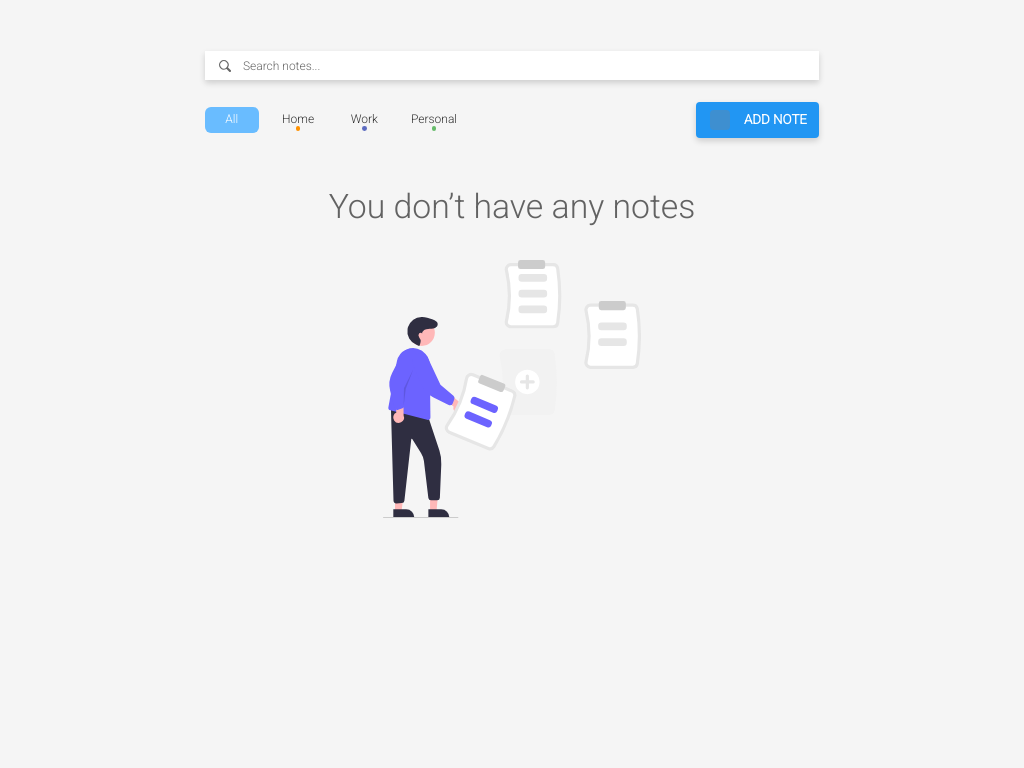
Note app UI › Should delete note
Click the button with test id "btn-add" at (758, 120), box [696,102,820,138]
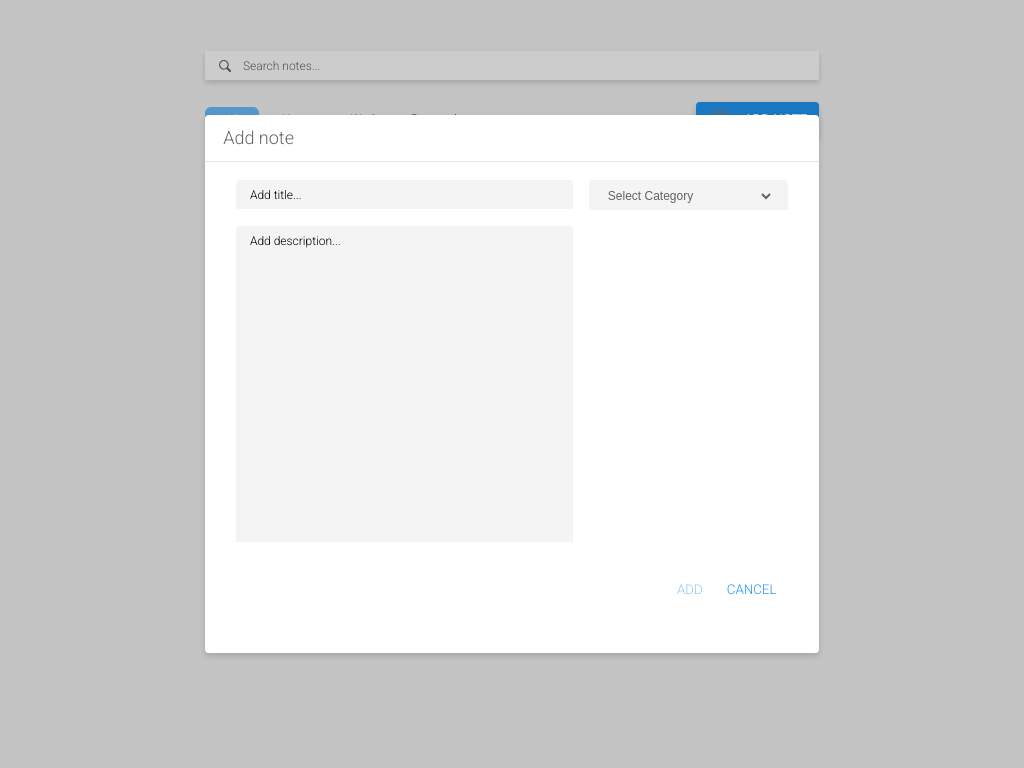
Type "Pet shop" into the field with test id "add-title" at (405, 195), box [250,188,559,202]
Type "Buscar o cachorro 15:00hrs" into the text box with test id "add-description" at (405, 385), box [250,234,559,535]
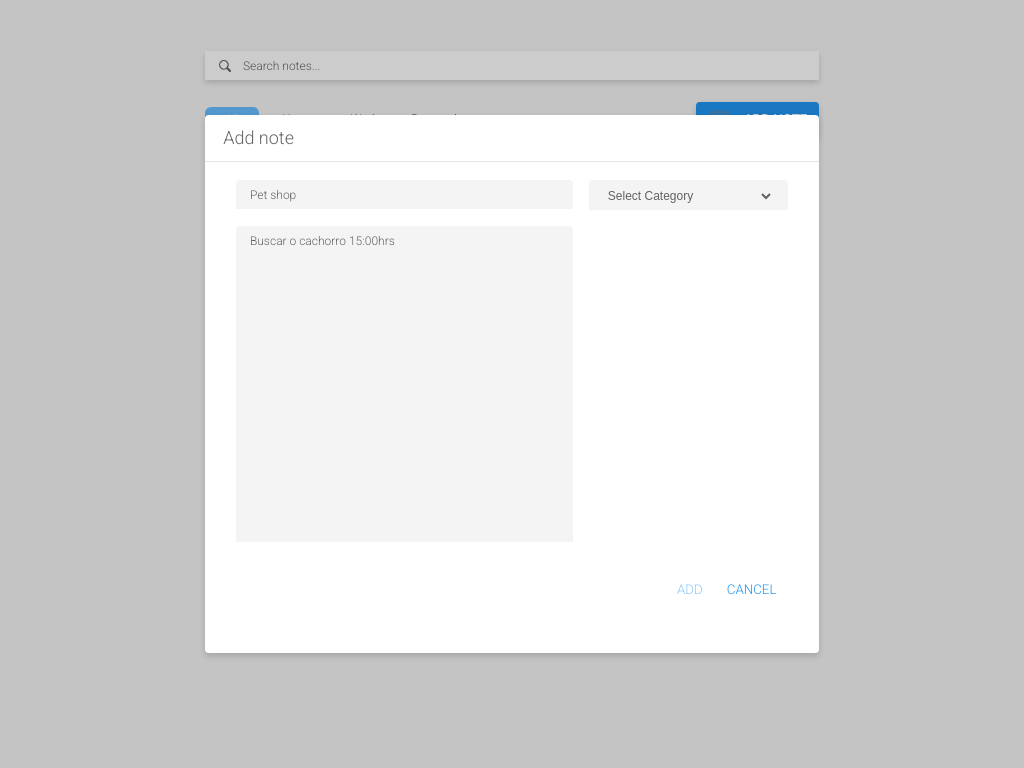
Select "Home" in the dropdown with test id "select-category" at (689, 196), box [604,188,774,204]
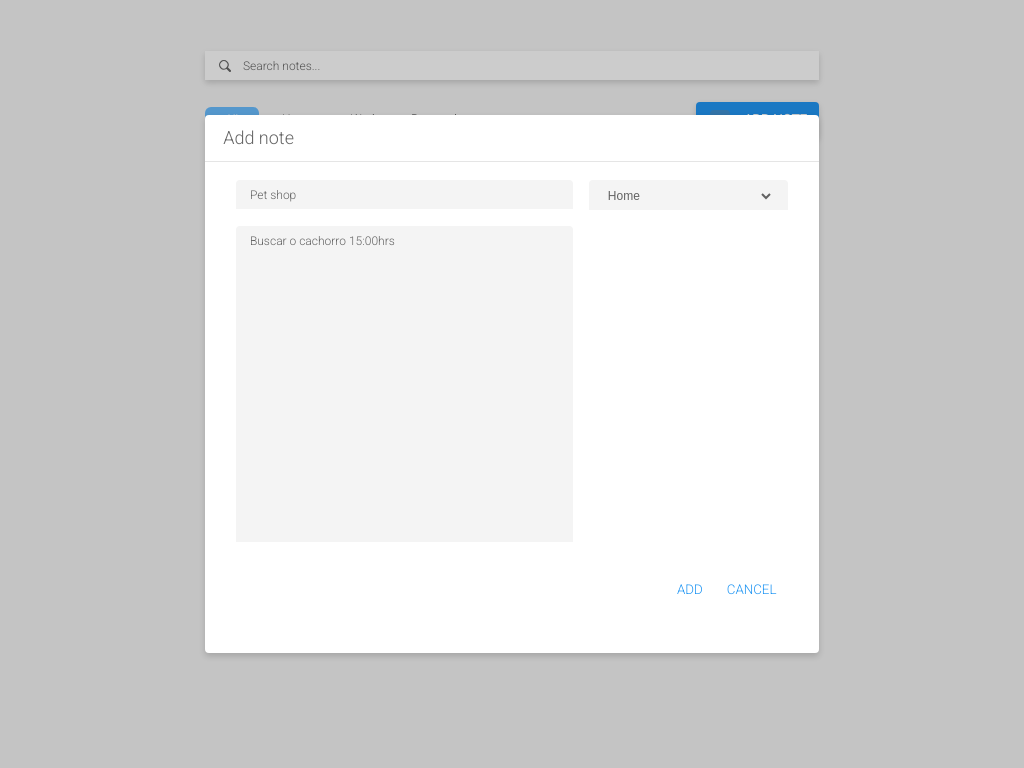
Click the button with test id "btn-submit-note" at (690, 590), box [665,570,715,609]
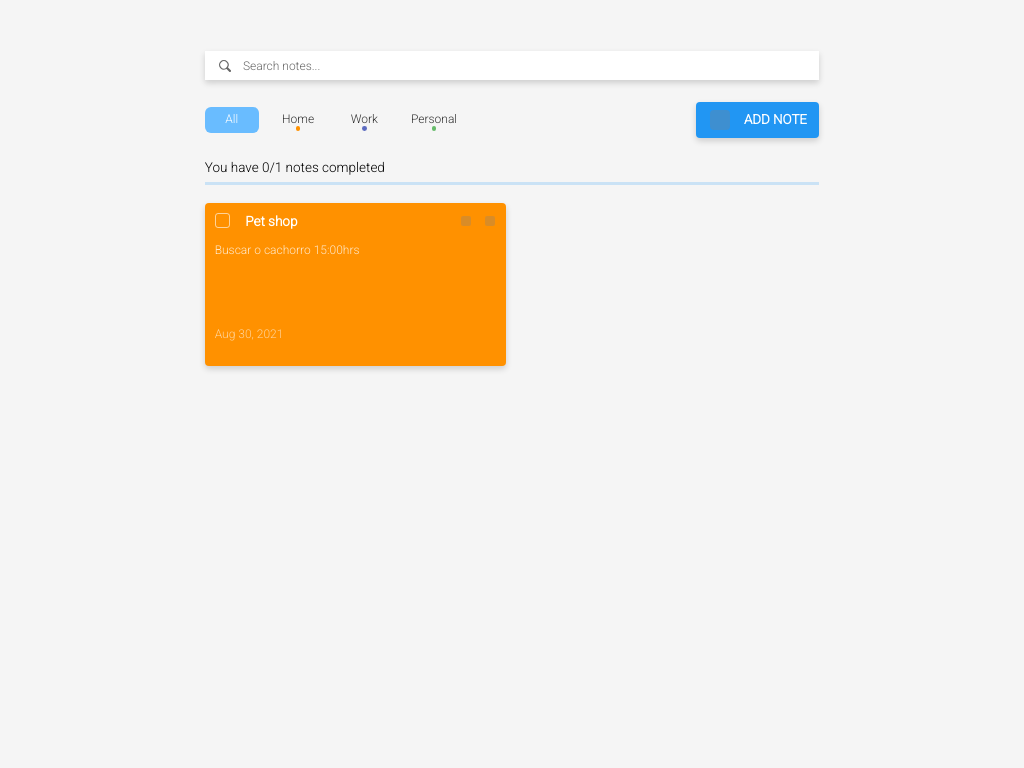
Click the button with test id "btn-delete-note" at (484, 223), box [472,215,496,230]
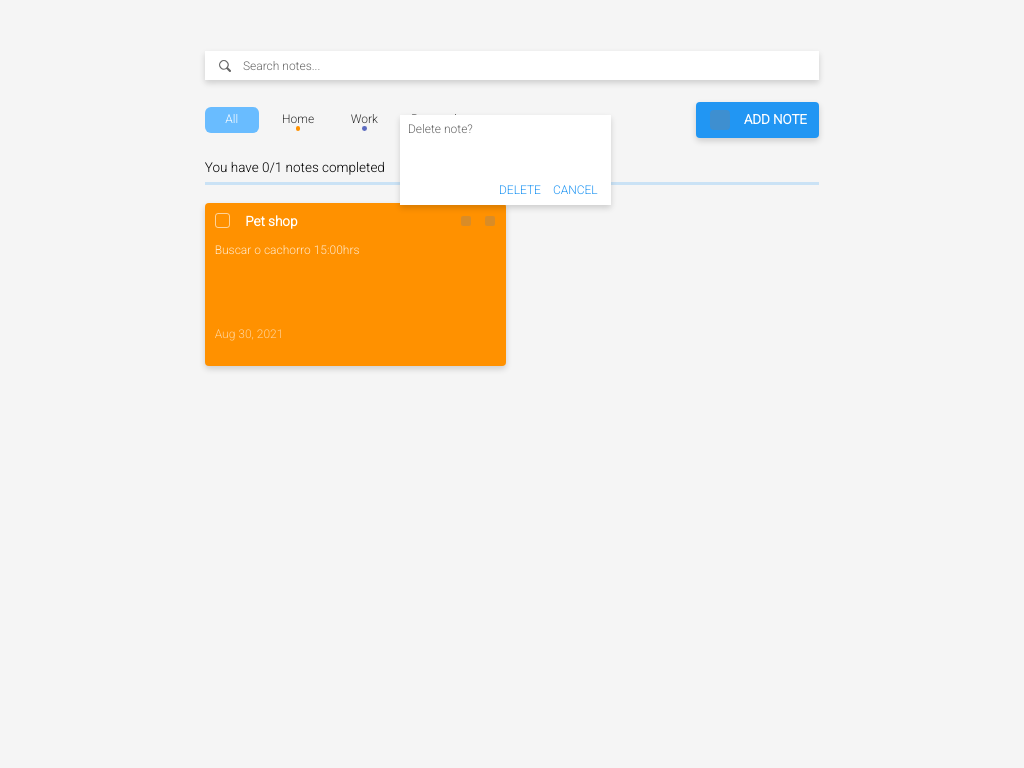
Click the button with test id "btn-delete-note-popup" at (520, 187), box [493,177,547,197]
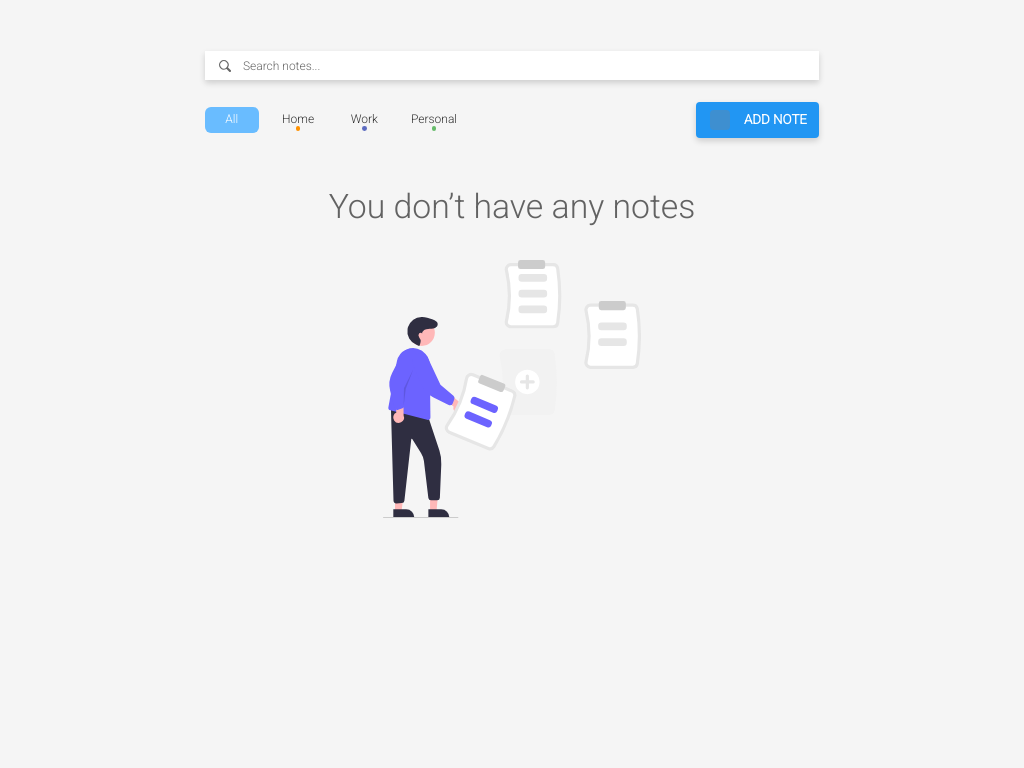
expect no elements with test id "card-note" are shown: met
